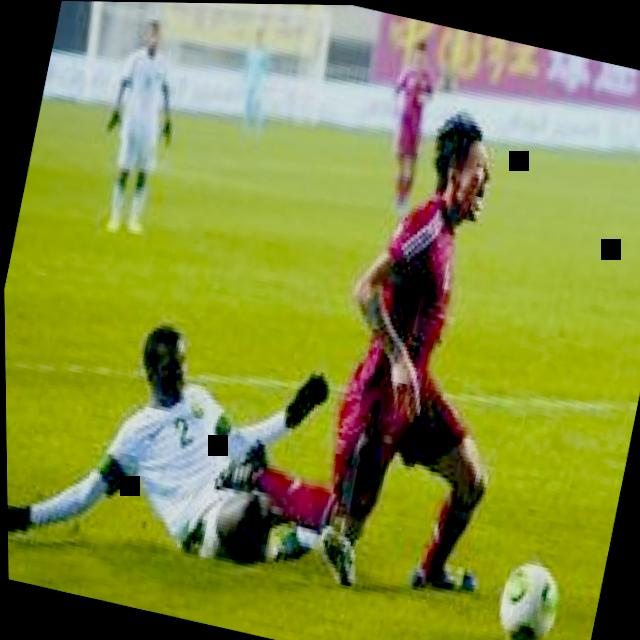Fall-Detected: (3, 260, 398, 595)
